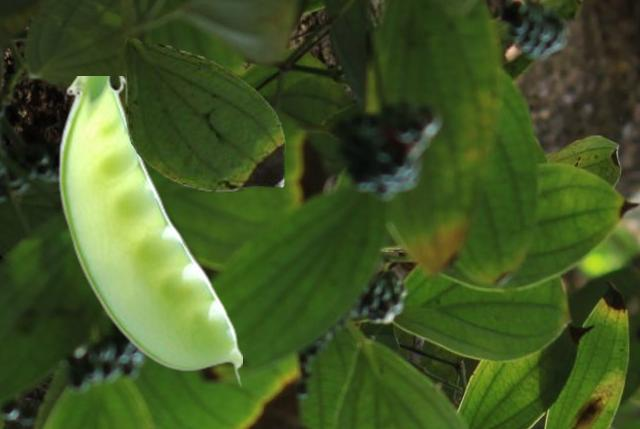pea: (57, 76, 241, 387)
